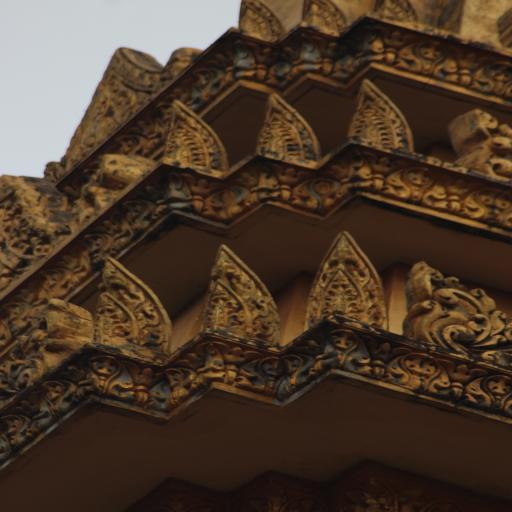la: (400, 260, 512, 360), (200, 240, 291, 346), (311, 224, 390, 330), (95, 256, 175, 358), (163, 95, 228, 172), (356, 76, 415, 159), (256, 90, 317, 165), (165, 342, 232, 406), (385, 342, 461, 398), (239, 348, 314, 395), (254, 164, 320, 214), (312, 328, 378, 376), (389, 162, 449, 214), (398, 34, 456, 85), (462, 177, 512, 233), (280, 34, 344, 76), (76, 357, 134, 403), (36, 370, 83, 426), (217, 41, 274, 84), (326, 155, 381, 197), (200, 176, 253, 218), (470, 362, 512, 413), (121, 186, 163, 236), (36, 260, 82, 302), (78, 223, 120, 267), (0, 411, 35, 459), (475, 52, 512, 94)
